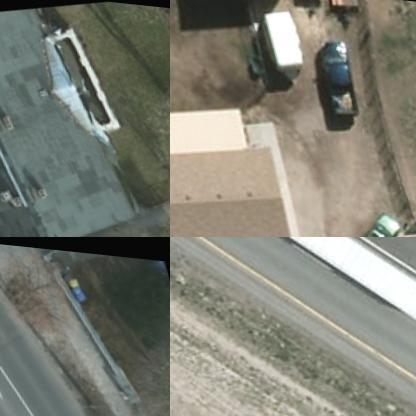camping car: (258, 3, 308, 77)
car: (337, 197, 406, 236)
pickup: (308, 31, 365, 119)
truck: (170, 237, 415, 364)
